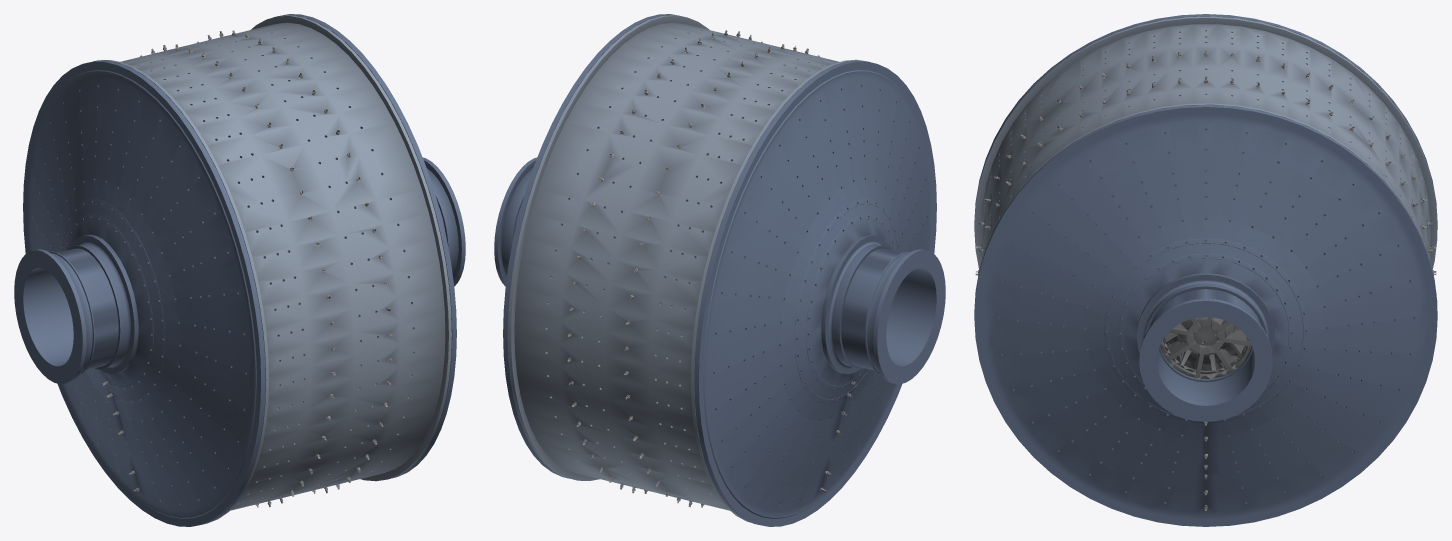
File: mill-sag-explode.glb
The picture shows the model from 3 angles, left to right: view 1: azimuth 30°, elevation 25°; view 2: azimuth 150°, elevation 25°; view 3: azimuth 270°, elevation 25°; orthographic projection. The views are drawn at different scales.
Parts seen in each view (by area): view 1: millHead:feed-head, millShell:shell-top, millShell:shell-bottom, millHead:discharge-head, bolt:fasteners; view 2: millHead:feed-head, millShell:shell-top, millShell:shell-bottom, millHead:discharge-head, bolt:fasteners; view 3: millHead:discharge-head, millShell:shell-top, metal:discharge, millHead:feed-head, bolt:fasteners.
Part boxes in pixels (x1,y1,x2,y2): millHead:feed-head: (14, 60, 265, 526); millShell:shell-top: (93, 15, 451, 380); millShell:shell-bottom: (207, 333, 451, 523); millHead:discharge-head: (273, 14, 465, 478); bolt:fasteners: (103, 30, 392, 507); millHead:feed-head: (694, 60, 945, 526); millShell:shell-top: (508, 15, 870, 389); millShell:shell-bottom: (508, 324, 750, 522); millHead:discharge-head: (494, 14, 681, 478); bolt:fasteners: (567, 30, 856, 507); millHead:discharge-head: (974, 104, 1437, 526); millShell:shell-top: (974, 16, 1437, 310); metal:discharge: (1014, 128, 1409, 510); millHead:feed-head: (974, 14, 1437, 246); bolt:fasteners: (975, 50, 1436, 508).
Size of the model in its own units: 9.47 by 10.19 by 10.19.
8 materials, 7 textured.
